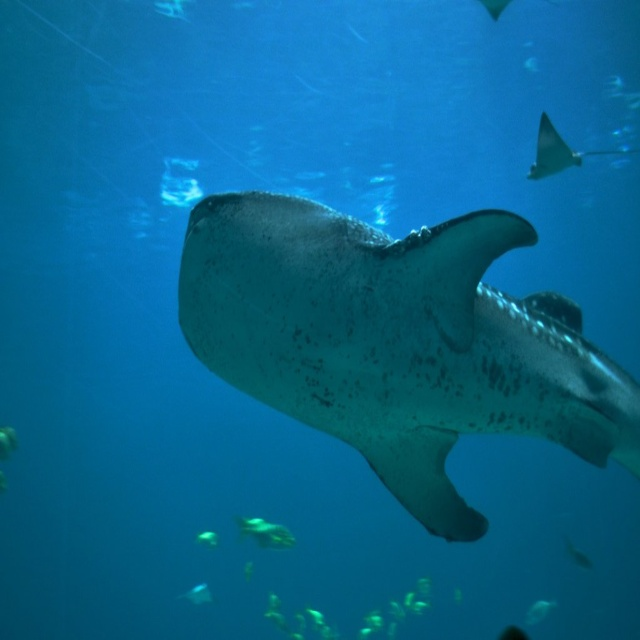Shark: (178, 189, 640, 542)
